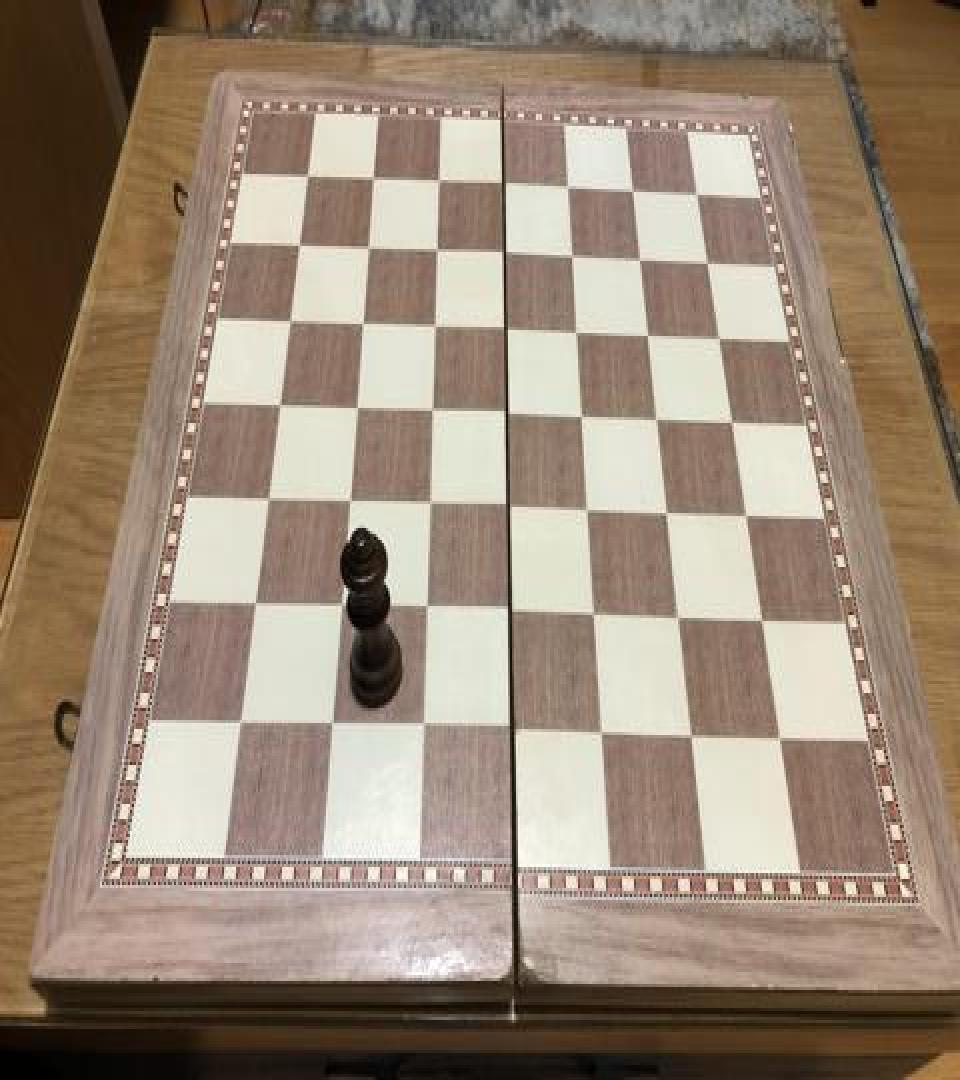xcorner: (687, 174, 711, 210), (623, 171, 647, 207), (558, 168, 582, 204), (493, 165, 517, 201), (428, 162, 452, 198), (363, 159, 387, 195), (297, 156, 321, 192), (698, 243, 722, 279), (630, 240, 654, 276), (562, 237, 586, 273), (494, 234, 518, 270), (425, 231, 449, 267), (357, 228, 381, 264), (288, 225, 312, 261), (709, 320, 733, 356), (638, 316, 662, 352), (566, 314, 590, 350), (495, 310, 519, 346), (423, 308, 447, 344), (351, 304, 375, 340), (278, 300, 302, 336), (721, 404, 745, 440), (646, 400, 670, 436), (571, 398, 595, 434), (495, 394, 519, 430), (420, 392, 444, 428), (344, 388, 368, 424), (267, 386, 291, 422), (735, 498, 759, 534), (656, 495, 680, 531), (576, 492, 600, 528), (496, 489, 520, 525), (416, 486, 440, 522), (336, 483, 360, 519), (255, 480, 279, 516), (751, 603, 775, 639), (667, 600, 691, 636), (582, 597, 606, 633), (498, 594, 522, 630), (412, 591, 436, 627), (327, 588, 351, 624), (241, 585, 265, 621), (768, 723, 792, 759), (679, 720, 703, 756), (589, 717, 613, 753), (499, 714, 523, 750), (408, 711, 432, 747), (317, 708, 341, 744), (226, 705, 250, 741)
